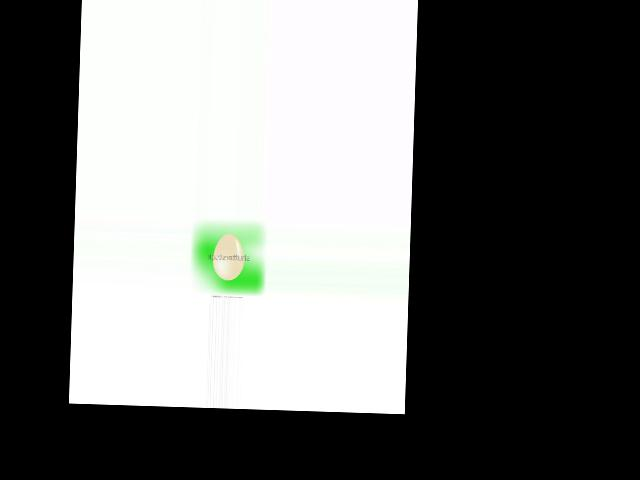egg: (211, 233, 244, 280)
